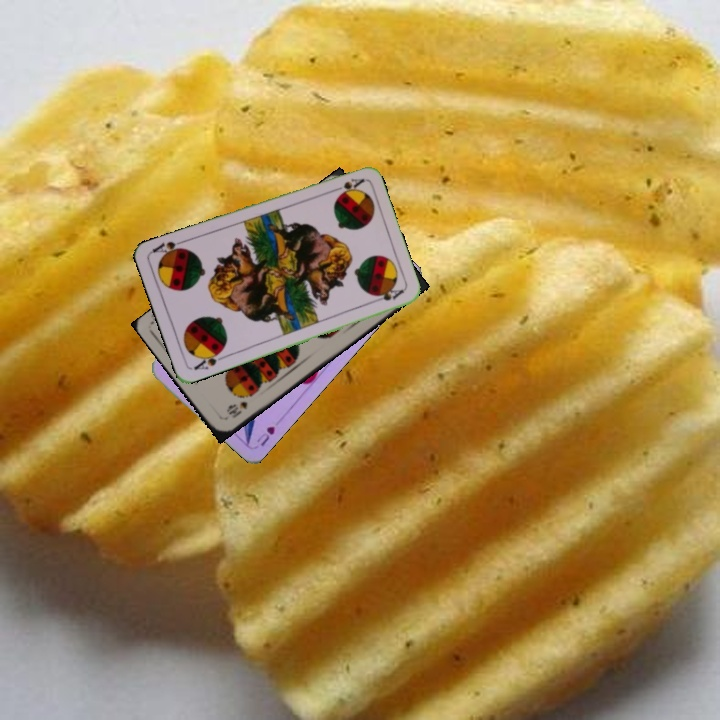HU: (252, 422, 278, 449)
S10: (221, 397, 250, 422)
SA: (190, 346, 229, 373), (327, 174, 366, 197)
